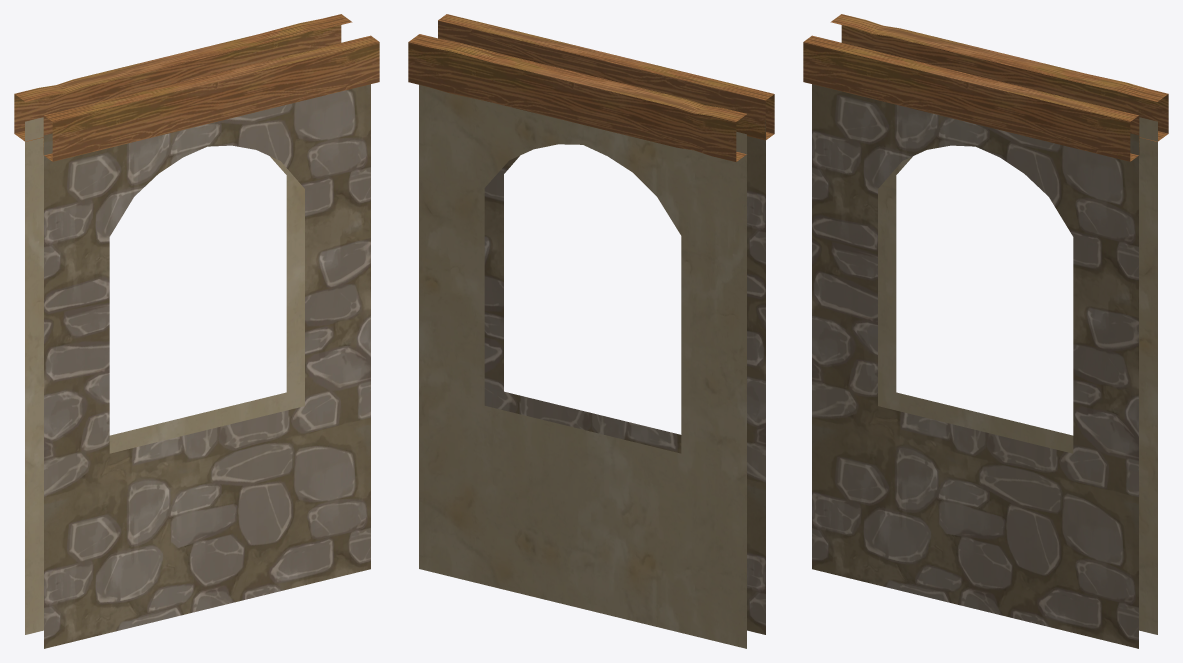
File: Wall_UnevenBrick_Window_Wide_Round.gltf
The picture shows the model from 3 angles, left to right: view 1: azimuth 30°, elevation 25°; view 2: azimuth 150°, elevation 25°; view 3: azimuth 330°, elevation 25°; orthographic projection.
Parts seen in each view (by area): view 1: Wall_UnevenBrick_Window_Wide_Round; view 2: Wall_UnevenBrick_Window_Wide_Round; view 3: Wall_UnevenBrick_Window_Wide_Round.
Boxes of the visible parts, x1=… form: Wall_UnevenBrick_Window_Wide_Round: x1=14, y1=14, x2=379, y2=648; Wall_UnevenBrick_Window_Wide_Round: x1=408, y1=14, x2=774, y2=648; Wall_UnevenBrick_Window_Wide_Round: x1=803, y1=14, x2=1168, y2=648.
Size of the model in its own units: 2 by 3.12 by 0.4064.
Materials: 3 (3 with a texture image).
